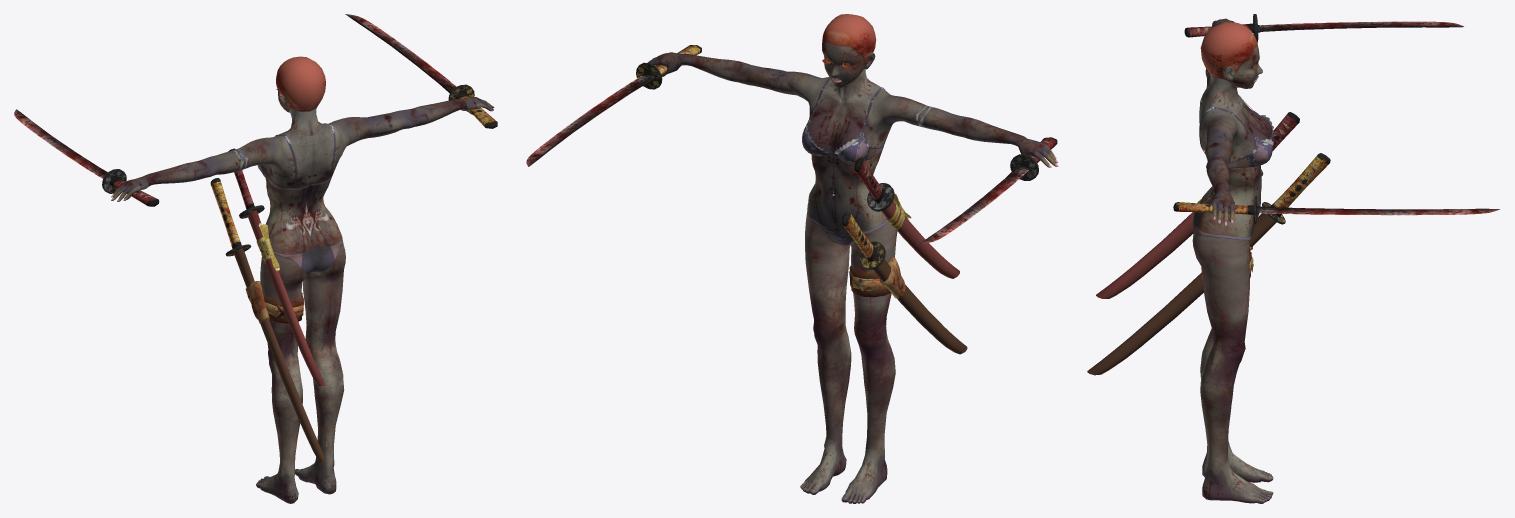
3 views of the same model, side by side, from view 1: azimuth 30°, elevation 25°; view 2: azimuth 150°, elevation 25°; view 3: azimuth 270°, elevation 25° (orthographic). The views are drawn at different scales.
Visible parts, largest first — view 1: pl01_00_20_0, pl01_00_23_0, pl01_00_18_0, pl01_00_11_8, pl01_00_15_0, pl01_00_13_9, pl01_00_29_0, pl01_00_5_1, pl01_00_26_0, pl01_00_37_0, pl01_00_21_0, pl01_00_41_0 (+3 smaller); view 2: pl01_00_20_0, pl01_00_23_0, pl01_00_18_0, pl01_00_15_0, pl01_00_11_8, pl01_00_13_9, pl01_00_5_1, pl01_00_29_0, pl01_00_16_0, pl01_00_37_0, pl01_00_26_0, pl01_00_41_0 (+4 smaller); view 3: pl01_00_20_0, pl01_00_29_0, pl01_00_18_0, pl01_00_5_1, pl01_00_13_9, pl01_00_15_0, pl01_00_26_0, pl01_00_37_0, pl01_00_41_0, pl01_00_23_0, pl01_00_16_0, pl01_00_33_0 (+4 smaller).
Boxes of the visible parts, x1,y1,x2,y2 form: pl01_00_20_0: (295, 242, 345, 494); pl01_00_23_0: (256, 254, 307, 503); pl01_00_18_0: (266, 179, 341, 254); pl01_00_11_8: (143, 136, 282, 185); pl01_00_15_0: (277, 108, 334, 187); pl01_00_13_9: (329, 98, 466, 148); pl01_00_29_0: (233, 248, 325, 462); pl01_00_5_1: (276, 56, 325, 100); pl01_00_26_0: (247, 210, 324, 386); pl01_00_37_0: (345, 14, 456, 93); pl01_00_21_0: (273, 235, 343, 274); pl01_00_41_0: (14, 109, 107, 178); pl01_00_20_0: (800, 208, 851, 494); pl01_00_23_0: (841, 222, 897, 503); pl01_00_18_0: (807, 150, 886, 232); pl01_00_15_0: (807, 68, 880, 152); pl01_00_11_8: (872, 92, 1026, 147); pl01_00_13_9: (677, 53, 826, 105); pl01_00_5_1: (822, 14, 876, 61); pl01_00_29_0: (873, 259, 967, 354); pl01_00_16_0: (802, 78, 884, 164); pl01_00_37_0: (526, 76, 652, 166); pl01_00_26_0: (881, 201, 959, 278); pl01_00_41_0: (920, 167, 1028, 243); pl01_00_20_0: (1192, 235, 1273, 503); pl01_00_29_0: (1087, 213, 1276, 375); pl01_00_18_0: (1196, 165, 1261, 237); pl01_00_5_1: (1200, 22, 1259, 66); pl01_00_13_9: (1204, 111, 1241, 194); pl01_00_15_0: (1199, 74, 1272, 153); pl01_00_26_0: (1096, 212, 1194, 298); pl01_00_37_0: (1259, 206, 1499, 215); pl01_00_41_0: (1259, 21, 1463, 31); pl01_00_23_0: (1192, 224, 1273, 482); pl01_00_16_0: (1199, 86, 1273, 168); pl01_00_33_0: (1270, 153, 1330, 216).
Size of the model in its own units: 153 by 165 by 133.
